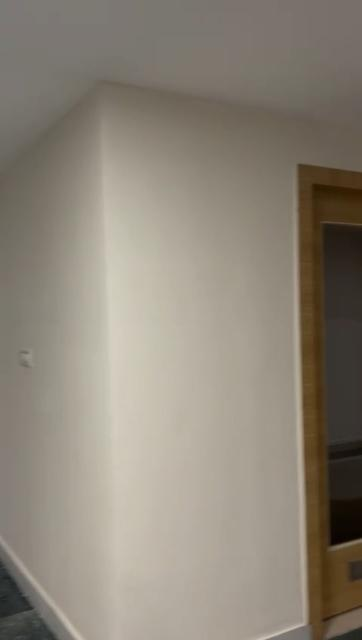door: (305, 171, 362, 632)
wall: (100, 77, 301, 631), (2, 84, 99, 640)
